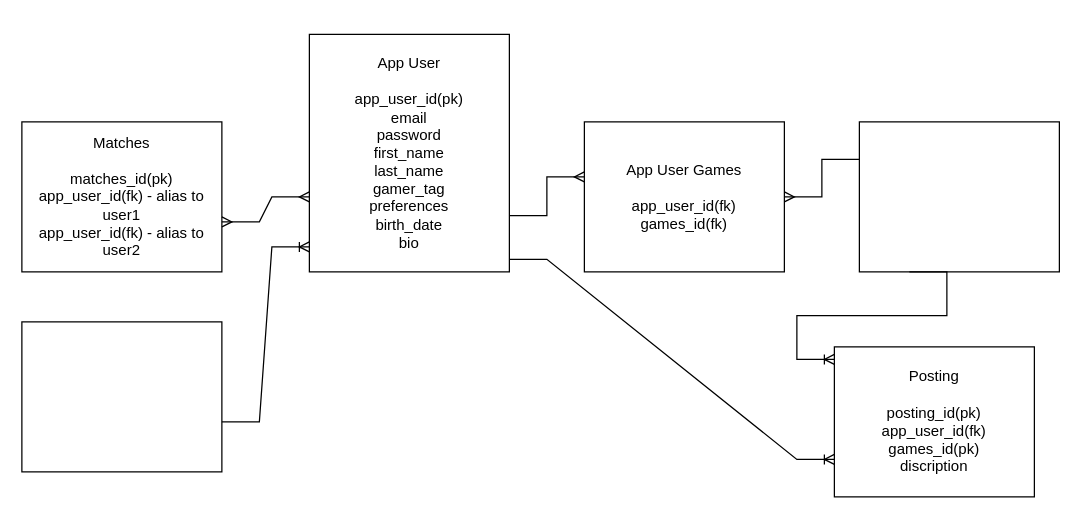
The diagram is 1081 pixels wide and 519 high, and some of its shapes have lost their labels. The shapes that lost their labels are listed below. From the top down, each one's centre as x and y in pixels, then its label:
At (958,196): "Games games_id(pk) game_title".
At (121,396): "App Roles app_role_id(pk) app_user_id(fk) user".
